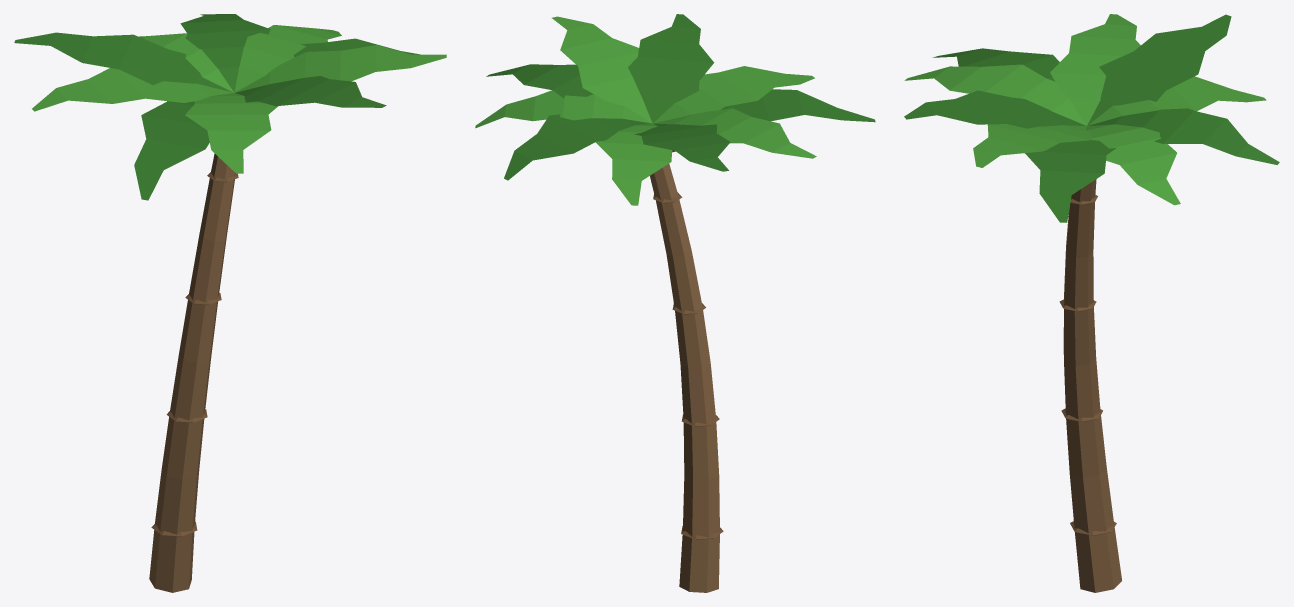
Rendered from palm_tree.glb.
3 renders of one model, left to right at view 1: azimuth 30°, elevation 25°; view 2: azimuth 150°, elevation 25°; view 3: azimuth 270°, elevation 25°, orthographic. The views are drawn at different scales.
Visible parts, largest first — view 1: palm_tree; view 2: palm_tree; view 3: palm_tree.
Boxes of the visible parts, bbox=[...] form: palm_tree: bbox=[14, 14, 446, 592]; palm_tree: bbox=[475, 14, 875, 592]; palm_tree: bbox=[904, 14, 1279, 592].
Bounding box in the file's own units: 5.98 × 7.84 × 5.09.
